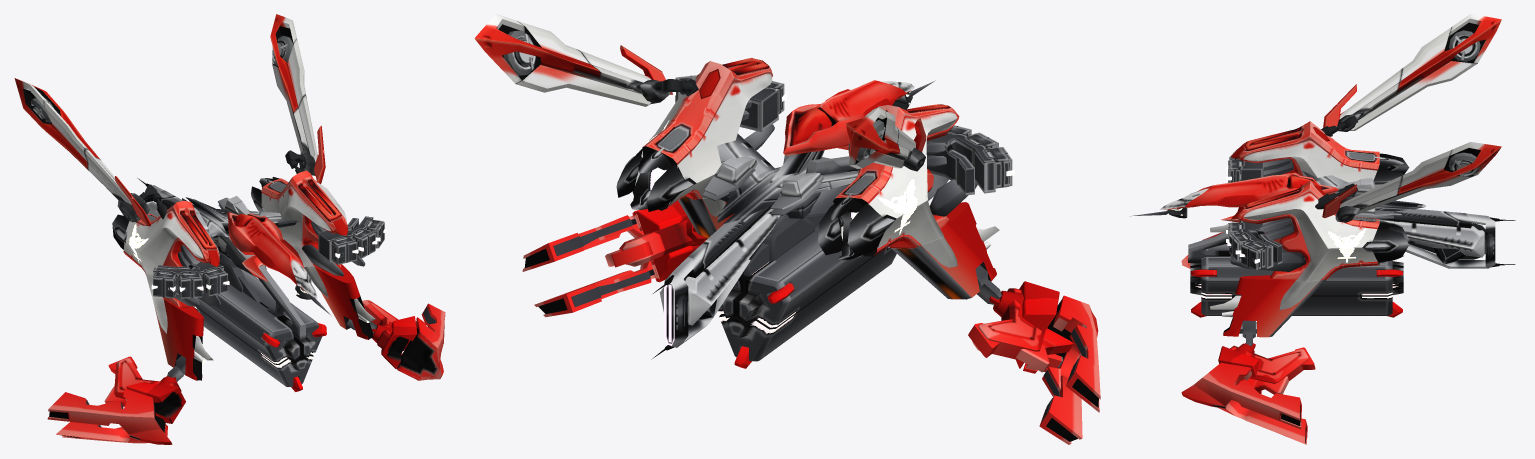
3 views of the same model, side by side, from view 1: azimuth 30°, elevation 25°; view 2: azimuth 150°, elevation 25°; view 3: azimuth 270°, elevation 25° (orthographic). The views are drawn at different scales.
Visible parts, largest first — view 1: body; view 2: body; view 3: body.
Boxes of the visible parts, left/top/right/bottom form: body: left=14, top=14, right=445, bottom=444; body: left=474, top=14, right=1100, bottom=444; body: left=1130, top=14, right=1515, bottom=444.
Size of the model in its own units: 39.27 by 26.53 by 33.68.
2 materials, 2 textured.
